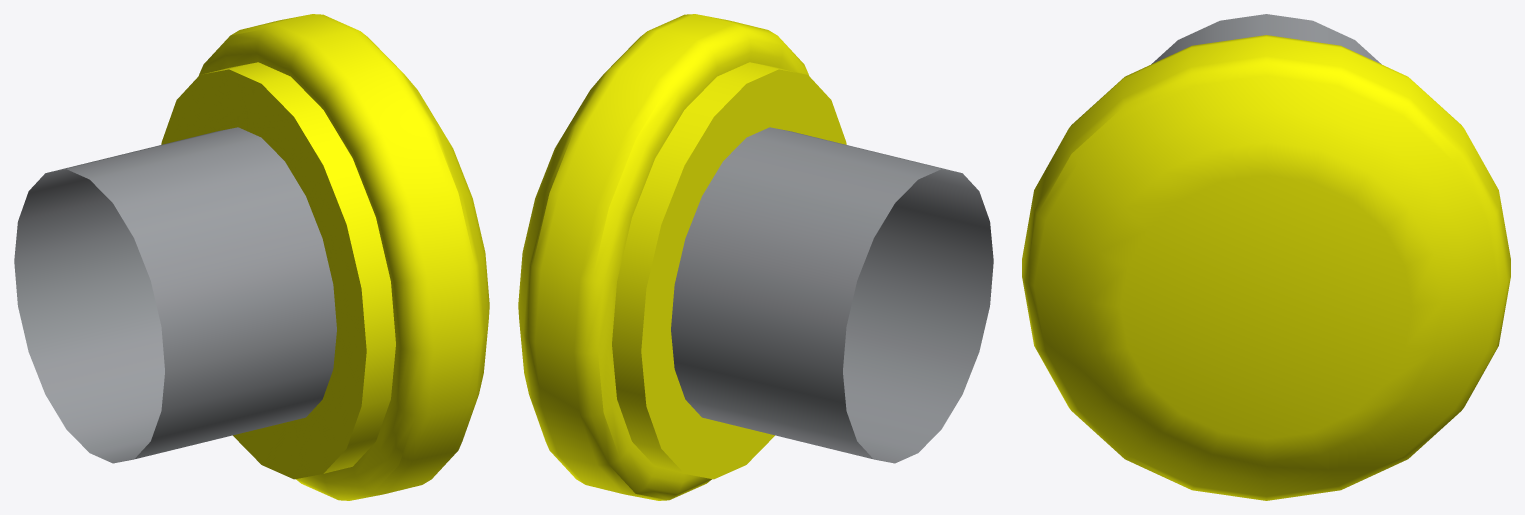
File: buttonYellow.fbx
3 views of the same model, side by side, from view 1: azimuth 30°, elevation 25°; view 2: azimuth 150°, elevation 25°; view 3: azimuth 270°, elevation 25° (orthographic).
Parts seen in each view (by area): view 1: pCylinder2; view 2: pCylinder2; view 3: pCylinder2.
Part boxes in pixels (x1,y1,x2,y2): pCylinder2: (14,14,489,500); pCylinder2: (518,14,993,500); pCylinder2: (1022,14,1510,500).
Bounding box in the file's own units: 12.6 × 16.62 × 16.62.
Materials: 2 (2 with a texture image).
